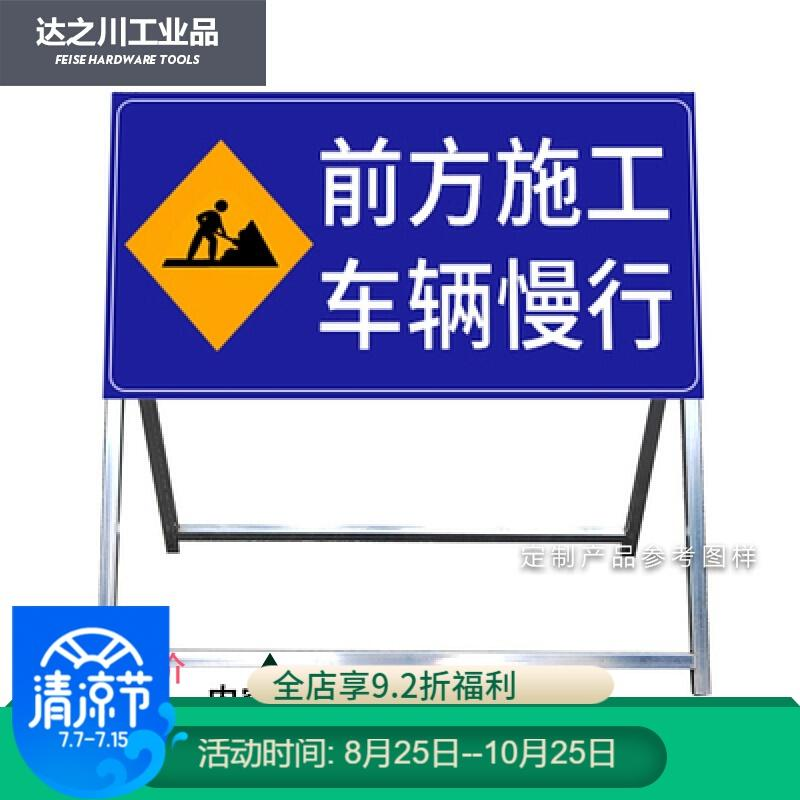sign: (115, 98, 702, 393)
